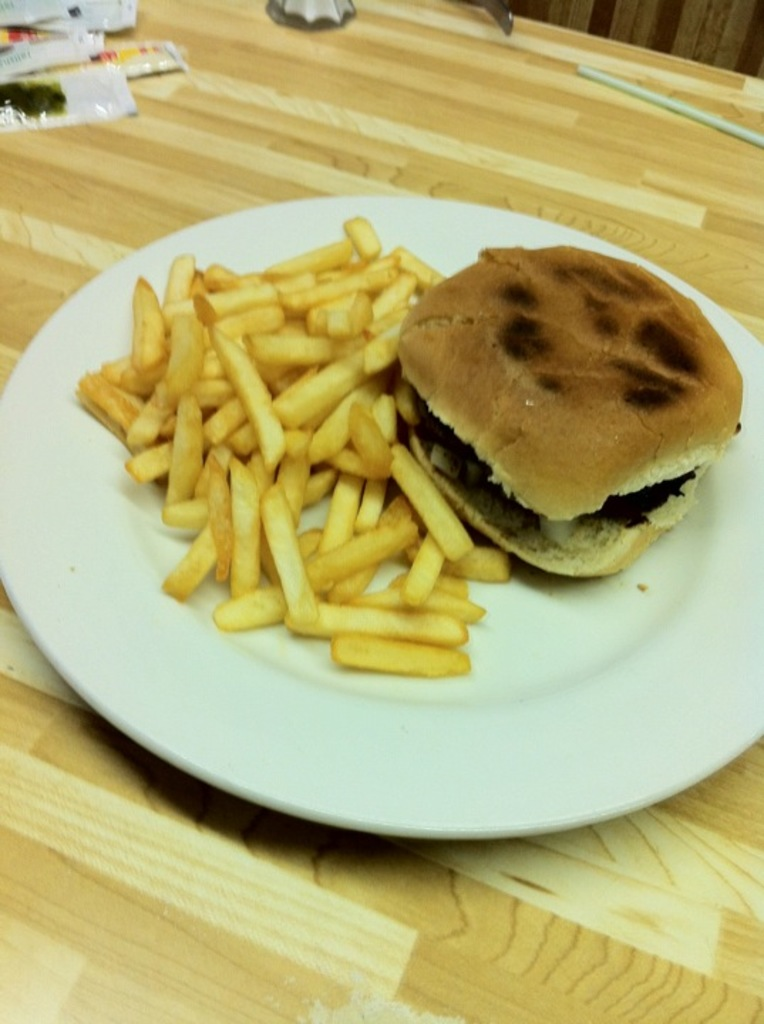French fries: (71, 206, 519, 682)
